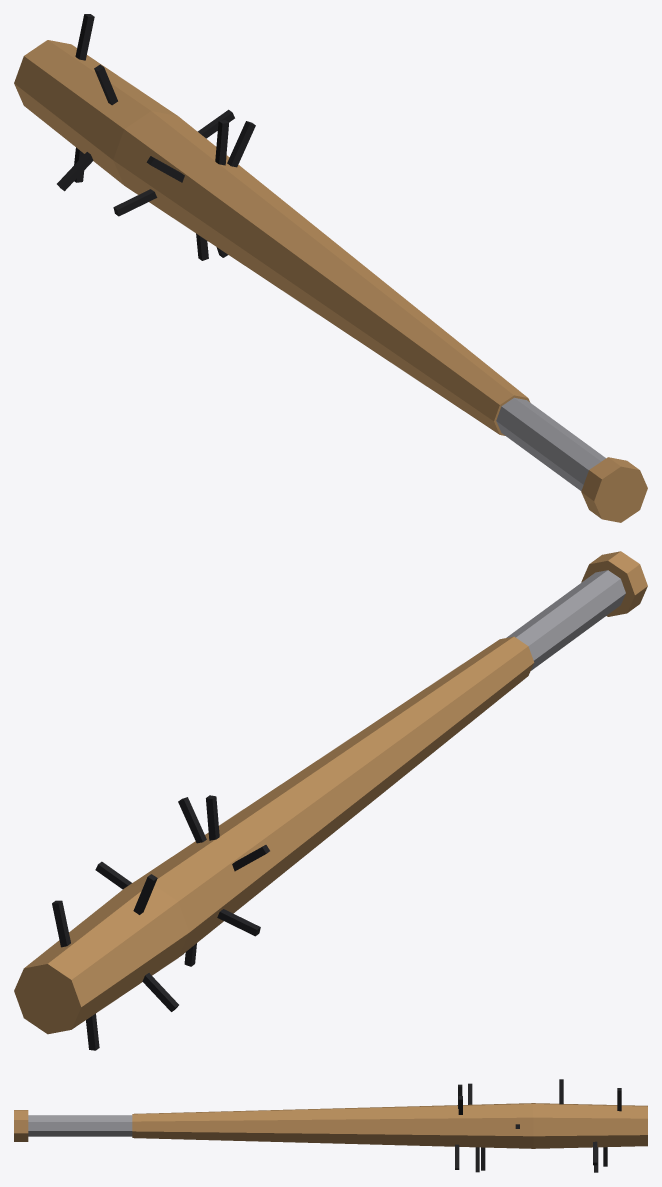
The model's file is batte_cloutee.glb.
The picture shows the model from 3 angles, top to bottom: view 1: azimuth 30°, elevation 25°; view 2: azimuth 150°, elevation 25°; view 3: azimuth 270°, elevation 25°; orthographic projection. The views are drawn at different scales.
Visible parts, largest first — view 1: batte_cloutee; view 2: batte_cloutee; view 3: batte_cloutee.
Part boxes in pixels (x1,y1,x2,y2): batte_cloutee: (14,14,647,522); batte_cloutee: (14,551,647,1050); batte_cloutee: (14,1079,647,1172).
Size of the model in its own units: 0.1246 by 0.13 by 0.885.
